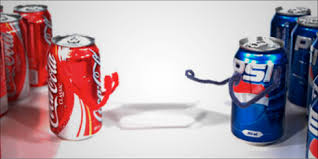can: (42, 30, 95, 131), (234, 46, 285, 146)
